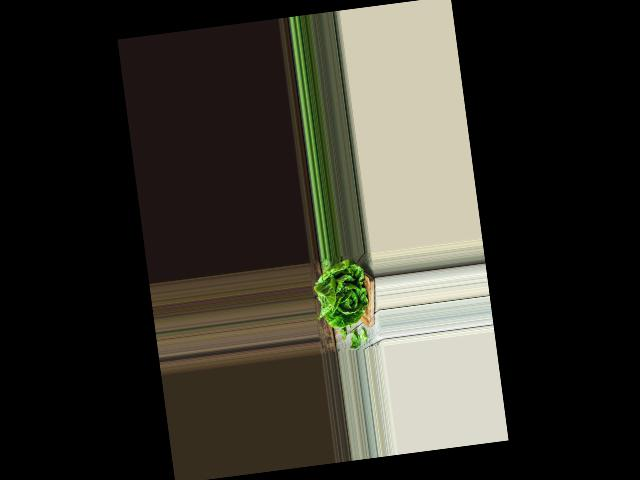lettuce: (312, 255, 373, 327)
